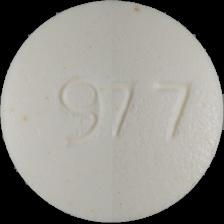0093-1177: (0, 0, 224, 224)
